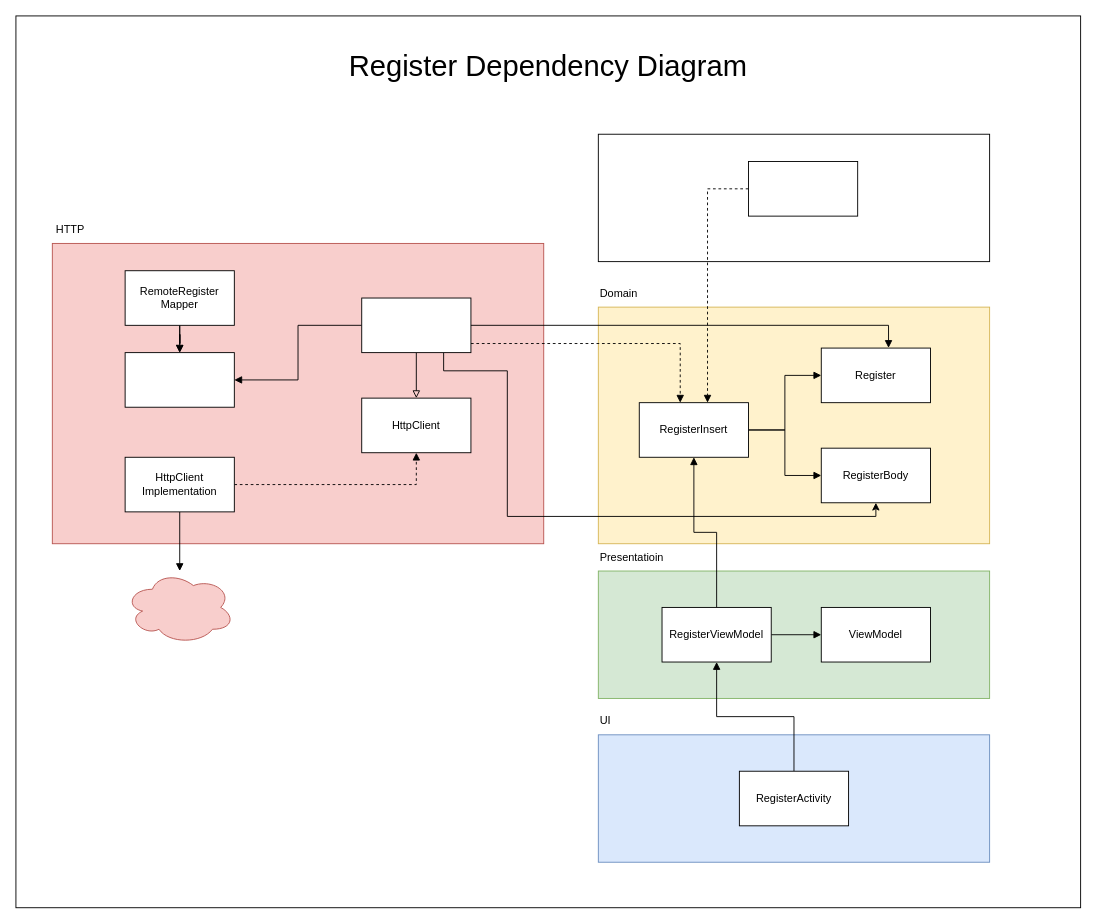
The diagram is 1097 pixels wide and 924 high, and some of its shapes have lost their labels. The shapes that lost their labels are listed below. From the top down, each one's box as (x1, y1, x2, y2) in pixels, then its label:
(748, 161, 858, 216): Factory/Decorator
(361, 297, 471, 353): RegisterLogin Loader
(124, 352, 234, 407): RemoteRegister Response
(124, 570, 234, 644): Backend
